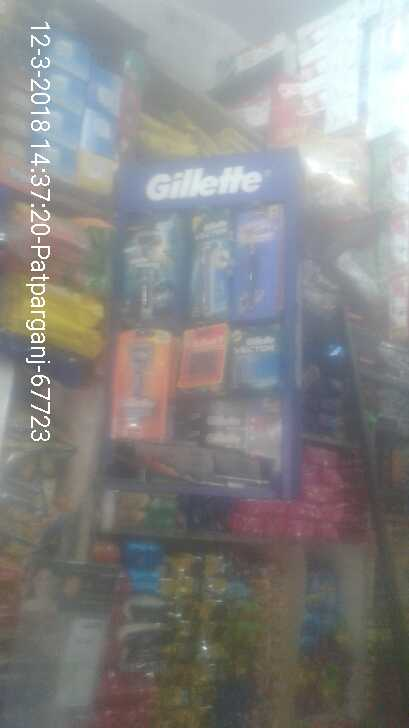gillette: (109, 322, 173, 439), (229, 202, 289, 324), (129, 219, 181, 325), (185, 212, 224, 320), (178, 325, 230, 390), (225, 331, 280, 388)
